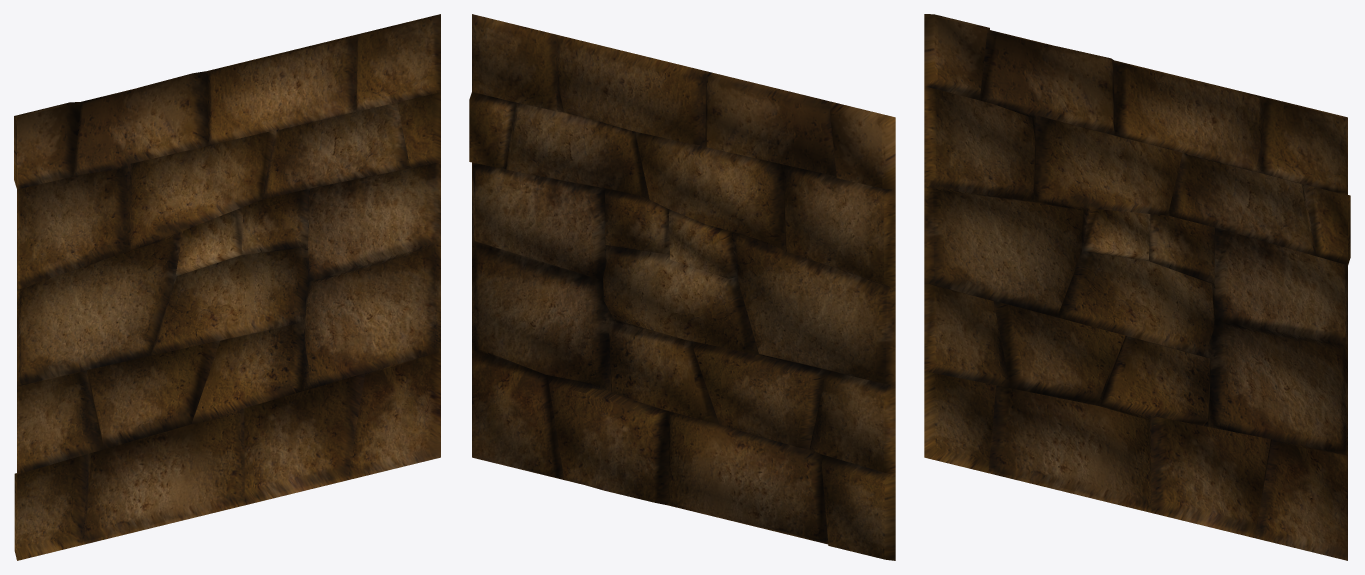
The model's file is Wall.fbx.
3 views of the same model, side by side, from view 1: azimuth 30°, elevation 25°; view 2: azimuth 150°, elevation 25°; view 3: azimuth 330°, elevation 25° (orthographic).
Parts seen in each view (by area): view 1: Wall; view 2: Wall; view 3: Wall.
Part boxes in pixels (x1,y1,x2,y2): Wall: (14,14,440,560); Wall: (469,14,895,560); Wall: (924,14,1350,560).
Bounding box in the file's own units: 200 × 200 × 6.48.
